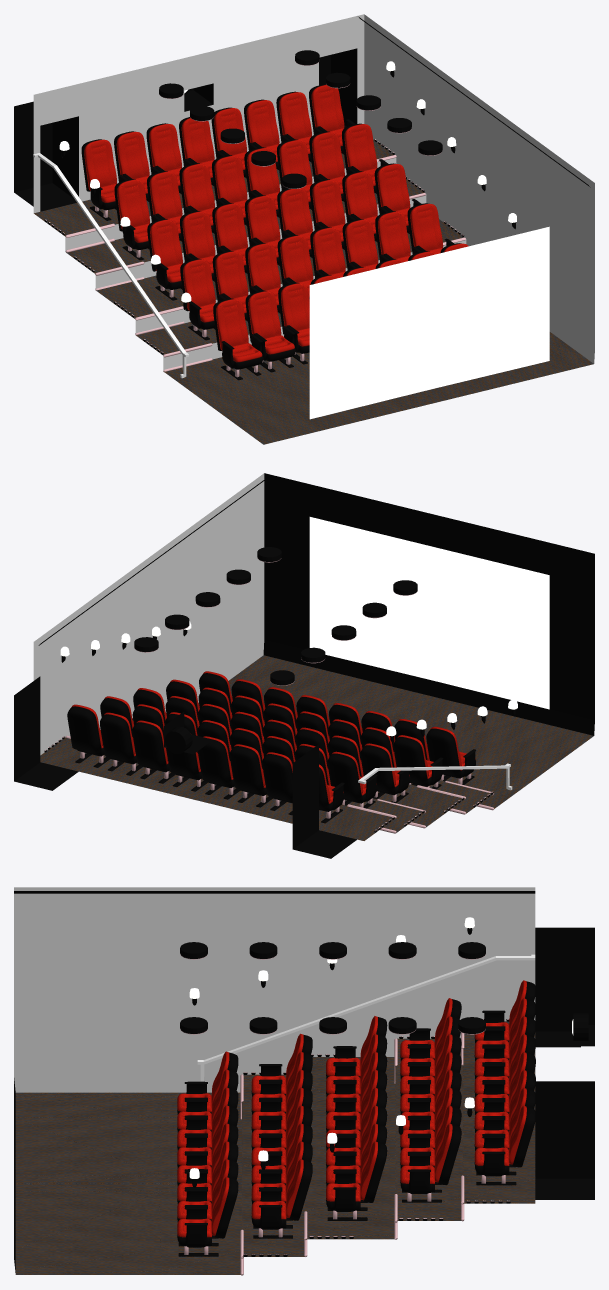
The model's file is cinema_of_boredom.glb.
The picture shows the model from 3 angles, top to bottom: view 1: azimuth 30°, elevation 25°; view 2: azimuth 150°, elevation 25°; view 3: azimuth 270°, elevation 25°; orthographic projection. The views are drawn at different scales.
Visible parts, largest first — view 1: Plane_8, Cube_6, Cylinder_2, Cube.002_4, Cube.001_9; view 2: Plane_8, Cube_6, Cylinder_2, Cube.001_9, Cube.002_4, Cylinder.001_3; view 3: Plane_8, Cube_6, Cylinder_2, Cube.002_4, Cube.001_9.
Boxes of the visible parts, x1=… form: Plane_8: x1=14, y1=14, x2=594, y2=444; Cube_6: x1=81, y1=84, x2=468, y2=380; Cylinder_2: x1=159, y1=50, x2=442, y2=188; Cube.002_4: x1=33, y1=153, x2=188, y2=378; Cube.001_9: x1=59, y1=61, x2=516, y2=309; Plane_8: x1=14, y1=473, x2=594, y2=858; Cube_6: x1=67, y1=671, x2=475, y2=823; Cylinder_2: x1=134, y1=547, x2=417, y2=685; Cube.001_9: x1=60, y1=621, x2=517, y2=743; Cube.002_4: x1=358, y1=763, x2=512, y2=790; Cylinder.001_3: x1=164, y1=726, x2=192, y2=753; Plane_8: x1=14, y1=887, x2=594, y2=1275; Cube_6: x1=177, y1=980, x2=535, y2=1256; Cylinder_2: x1=180, y1=942, x2=485, y2=1034; Cube.002_4: x1=197, y1=954, x2=535, y2=1081; Cube.001_9: x1=189, y1=917, x2=474, y2=1187.
Size of the model in its own units: 12.57 by 6.56 by 16.71.
9 materials, 2 textured.
